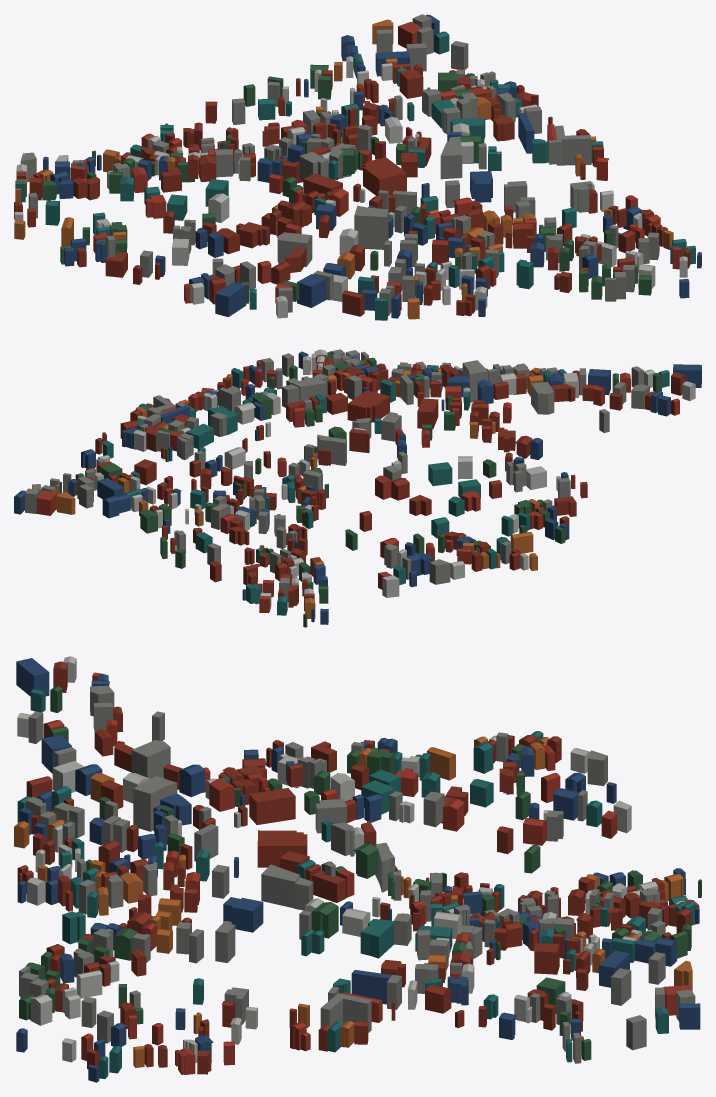
The model's file is near-16-54718-29742.5774ac72.glb.
The picture shows the model from 3 angles, top to bottom: view 1: azimuth 30°, elevation 25°; view 2: azimuth 150°, elevation 25°; view 3: azimuth 270°, elevation 25°; orthographic projection. The views are drawn at different scales.
Size of the model in its own units: 599 by 138 by 588.
